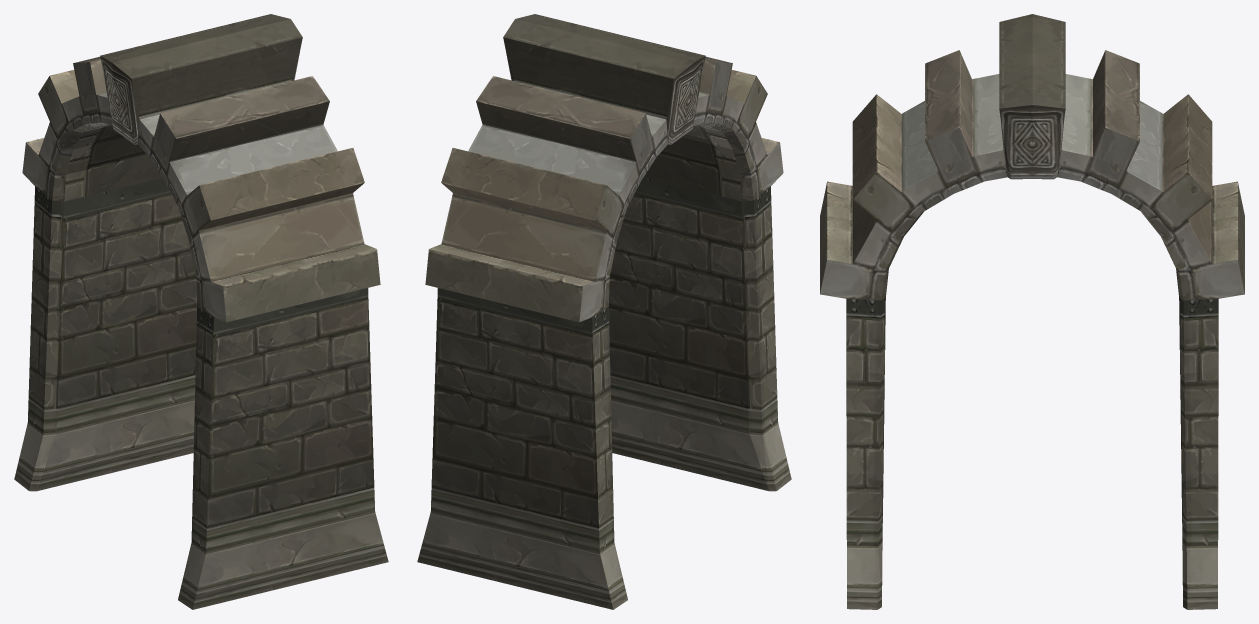
File: DN_1_4_ldao06.FBX
3 views of the same model, side by side, from view 1: azimuth 30°, elevation 25°; view 2: azimuth 150°, elevation 25°; view 3: azimuth 270°, elevation 25° (orthographic). The views are drawn at different scales.
Visible parts, largest first — view 1: DN_1_4_ldao06; view 2: DN_1_4_ldao06; view 3: DN_1_4_ldao06.
Boxes of the visible parts, <box> form: DN_1_4_ldao06: <box>14,14,388,609</box>; DN_1_4_ldao06: <box>417,14,791,609</box>; DN_1_4_ldao06: <box>820,14,1244,609</box>.
Bounding box in the file's own units: 75.09 × 176 × 135.
